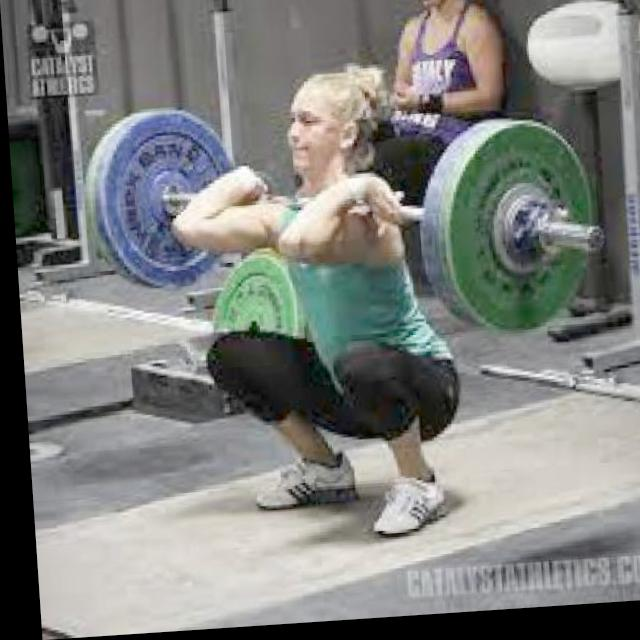barbell: (426, 122, 612, 351)
